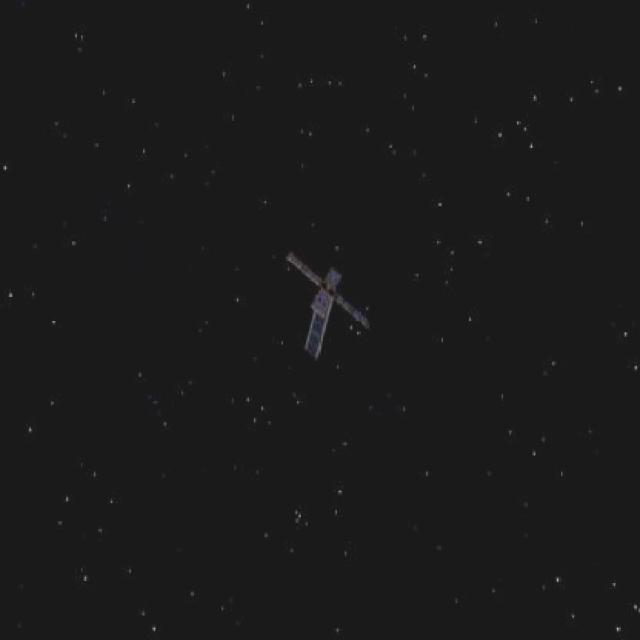satellite: (283, 233, 379, 379)
